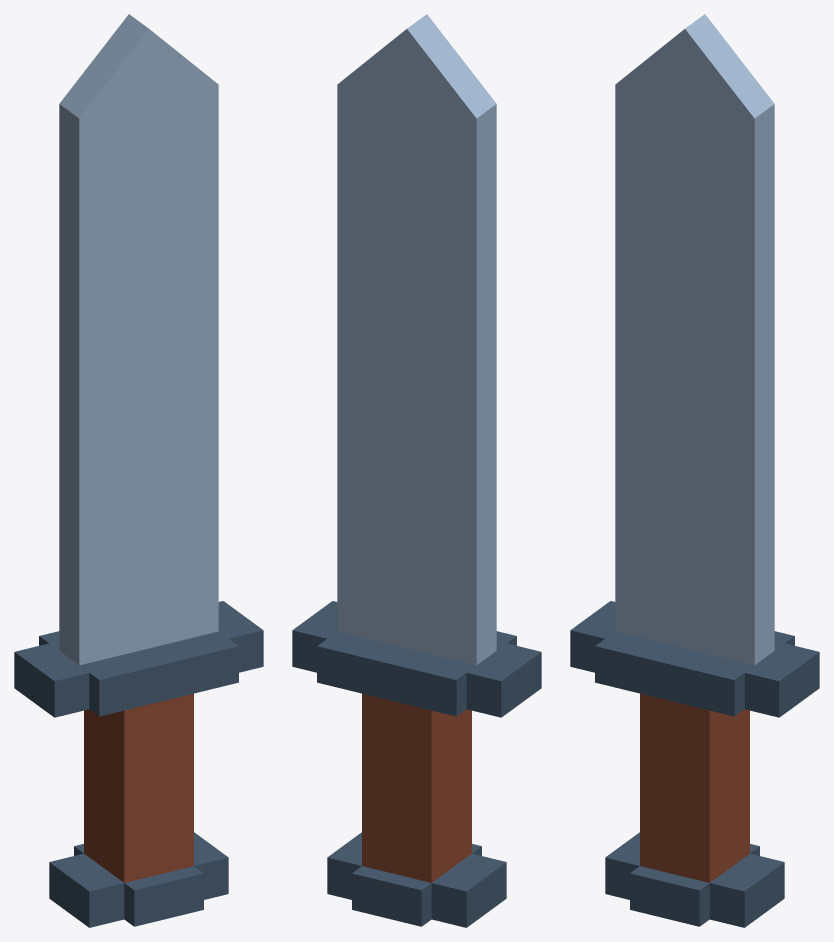
Rendered from simpleSword.glb.
3 views of the same model, side by side, from view 1: azimuth 30°, elevation 25°; view 2: azimuth 150°, elevation 25°; view 3: azimuth 330°, elevation 25° (orthographic).
Parts seen in each view (by area): view 1: generated(Clone); view 2: generated(Clone); view 3: generated(Clone).
Part boxes in pixels (left/top/right/bottom): generated(Clone): left=14, top=14, right=263, bottom=927; generated(Clone): left=292, top=14, right=541, bottom=927; generated(Clone): left=570, top=14, right=819, bottom=927.
Size of the model in its own units: 6 by 24 by 3.
